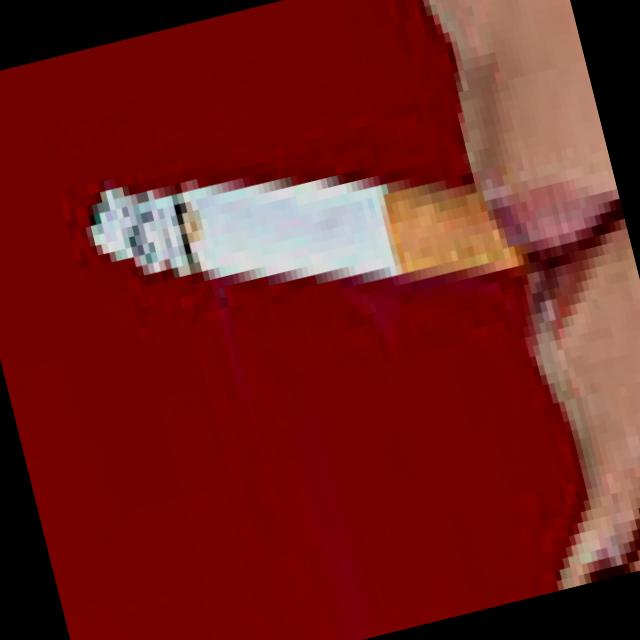smoke: (72, 73, 520, 371)
